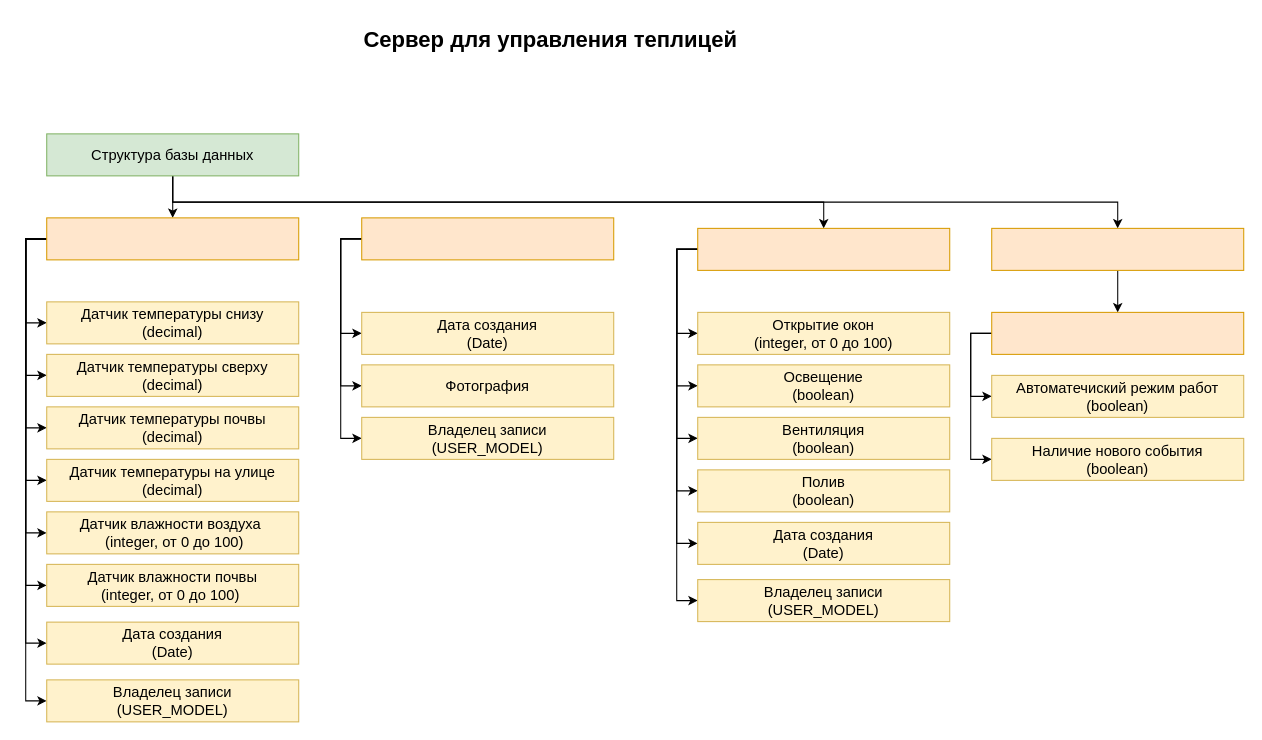
Some shapes in this 1262 by 740 pixel diagram are drawn without their labels. Here are the shapes that lost their labels. From the top down, the centre of each, then its label:
At [172,238]: "Данные с датчиков".
At [487,238]: "Фотографии".
At [823,248]: "Управляемы системы".
At [1117,248]: "Управление".
At [1117,332]: "События".
